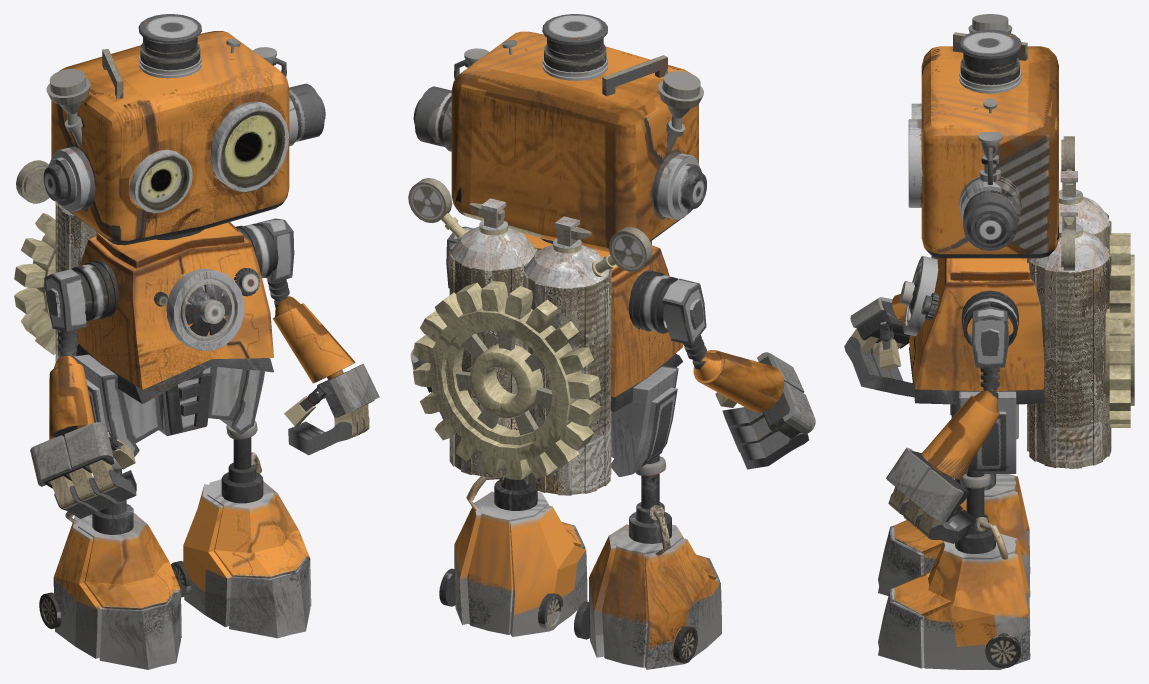
The model's file is robot-de-collection-des-annees-60.glb.
The picture shows the model from 3 angles, left to right: view 1: azimuth 30°, elevation 25°; view 2: azimuth 150°, elevation 25°; view 3: azimuth 270°, elevation 25°; orthographic projection. The views are drawn at different scales.
Visible parts, largest first — view 1: polySurface2, pCube1, pCube2, pCube21, pCylinder3, pCylinder10, pCylinder9, pPipe1, polySurface8, pCylinder4, polySurface27, pCylinder6 (+19 smaller); view 2: pCube1, polySurface2, pPipe1, pCylinder24, pCylinder31, pCube2, pCube21, pCylinder9, pPipe2, polySurface27, pCylinder6, polySurface36 (+13 smaller); view 3: polySurface2, pCube1, pCylinder31, pCube2, pPipe1, pCylinder7, polySurface8, pCylinder9, pCube21, polySurface17, pCylinder10, polySurface5 (+16 smaller).
Boxes of the visible parts, x1,y1,x2,y2 form: polySurface2: (39, 421, 311, 669); pCube1: (51, 31, 289, 245); pCube2: (76, 222, 273, 389); pCube21: (74, 354, 264, 456); pCylinder3: (210, 101, 288, 192); pCylinder10: (166, 268, 244, 350); pCylinder9: (138, 14, 201, 78); pPipe1: (14, 213, 55, 354); polySurface8: (273, 296, 355, 383); pCylinder4: (129, 149, 192, 213); polySurface27: (49, 356, 94, 439); pCylinder6: (43, 146, 95, 211); pCube1: (451, 31, 698, 251); polySurface2: (439, 453, 721, 669); pPipe1: (413, 281, 600, 479); pCylinder24: (523, 244, 611, 495); pCylinder31: (449, 226, 537, 477); pCube2: (523, 233, 683, 397); pCube21: (611, 366, 678, 476); pCylinder9: (542, 14, 607, 80); pPipe2: (470, 344, 543, 418); polySurface27: (693, 350, 783, 412); pCylinder6: (653, 151, 706, 219); polySurface36: (662, 278, 706, 345); polySurface2: (878, 468, 1030, 669); pCube1: (921, 46, 1058, 258); pCylinder31: (1027, 230, 1111, 468); pCube2: (909, 257, 1044, 391); pPipe1: (1105, 233, 1134, 427); pCylinder7: (959, 176, 1021, 250); polySurface8: (921, 390, 1000, 479); pCylinder9: (959, 29, 1021, 93); pCube21: (951, 391, 1016, 473); polySurface17: (971, 306, 1008, 367); pCylinder10: (899, 256, 938, 335); polySurface5: (910, 469, 963, 522).
Size of the model in its own units: 0.03 by 0.0462 by 0.0211.
Materials: 1 (1 with a texture image).
